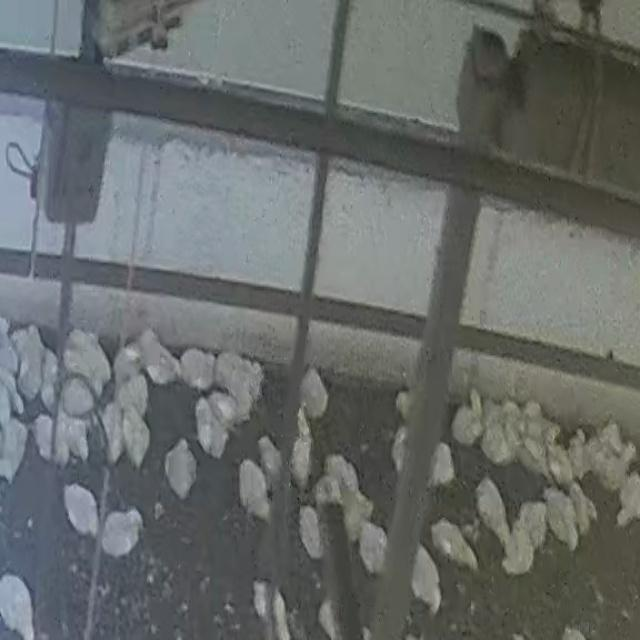chicken: (428, 518, 479, 577), (160, 433, 201, 502), (250, 579, 296, 640), (408, 542, 443, 616), (472, 475, 510, 543), (0, 570, 38, 638), (541, 487, 580, 552), (52, 406, 92, 466), (99, 508, 145, 558), (237, 457, 271, 522), (450, 390, 486, 450), (120, 401, 152, 468), (63, 482, 101, 538), (513, 501, 549, 558), (499, 525, 537, 577), (323, 453, 362, 503), (1, 415, 30, 482), (300, 362, 332, 419), (358, 519, 390, 574), (101, 400, 127, 467), (290, 420, 315, 487), (179, 347, 216, 392), (613, 470, 640, 529), (298, 505, 326, 559), (256, 434, 283, 485), (430, 442, 458, 488), (34, 413, 56, 459)
